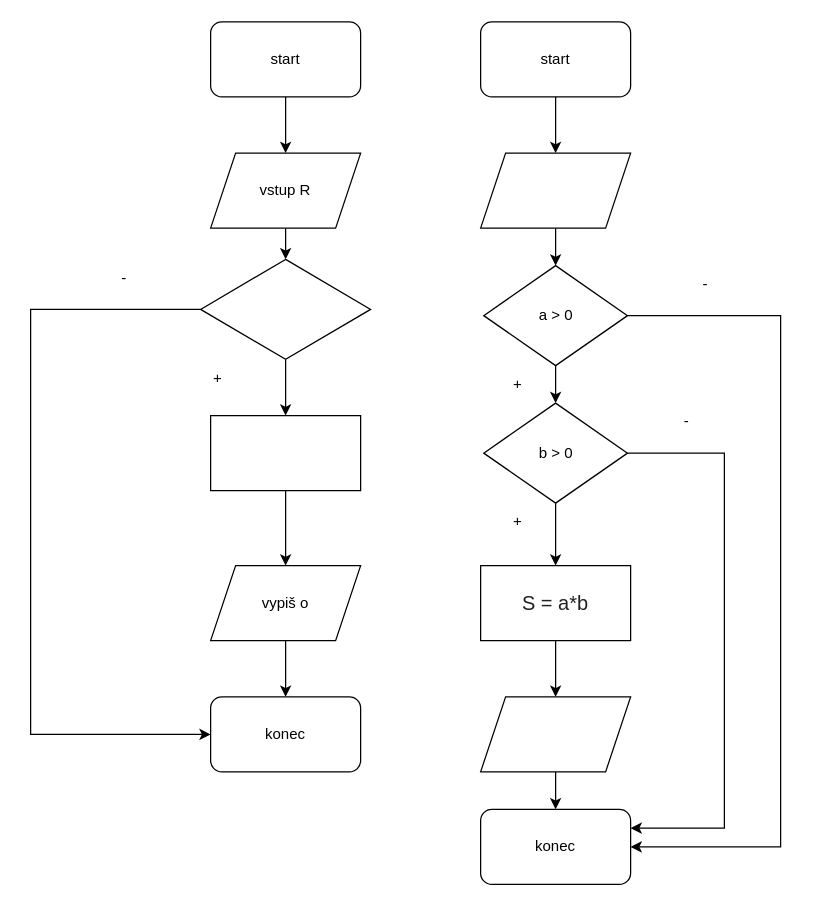
The diagram is 813 pixels wide and 906 high, and some of its shapes have lost their labels. The centre of each missing label's shape, as x and y in pixels:
"o=2πr" goes at point 285,452.
"R > 0" goes at point 285,308.
"vstup a, b" goes at point 555,190.
"vypiš S" goes at point 555,734.
